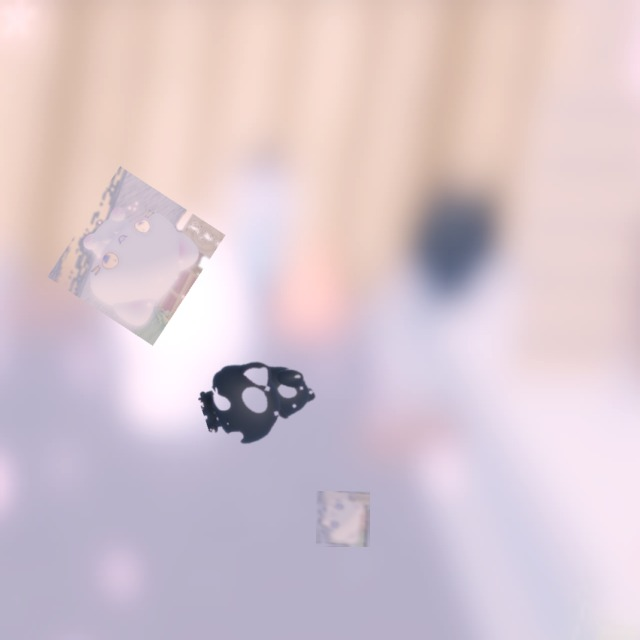urso_branco: (47, 166, 226, 346), (316, 491, 370, 547)
urso_preto: (190, 337, 333, 462)
